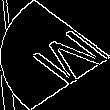M_SE: (7, 21, 103, 89)
